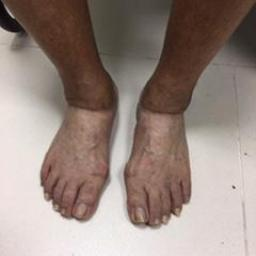Dorsal View -Both Feet-: (29, 56, 210, 230)
